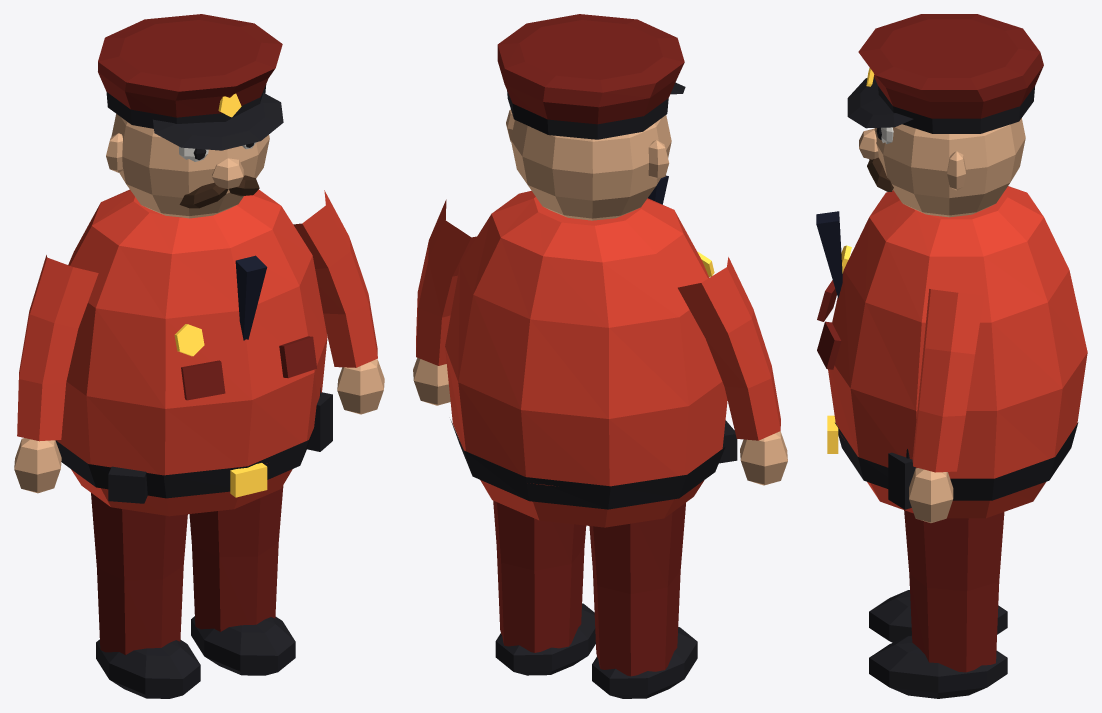
The model's file is cop_2.glb.
3 renders of one model, left to right at view 1: azimuth 30°, elevation 25°; view 2: azimuth 150°, elevation 25°; view 3: azimuth 270°, elevation 25°, orthographic.
Visible parts, largest first — view 1: body_shirt, legs_pants, arms_shirt, cap_pants, legs_black, head_skin, body_black, cap_black, arms_skin, body_pants, body_gold, body_tie (+1 smaller); view 2: body_shirt, legs_pants, cap_pants, arms_shirt, head_skin, body_black, legs_black, arms_skin, cap_black; view 3: body_shirt, cap_pants, legs_pants, head_skin, arms_shirt, legs_black, body_black, cap_black, arms_skin, body_tie, body_pants, body_gold (+1 smaller).
Boxes of the visible parts, x1=… form: body_shirt: x1=56, y1=189, x2=327, y2=516; legs_pants: x1=91, y1=485, x2=283, y2=654; arms_shirt: x1=17, y1=190, x2=377, y2=441; cap_pants: x1=98, y1=14, x2=282, y2=117; legs_black: x1=96, y1=616, x2=295, y2=698; head_skin: x1=106, y1=114, x2=269, y2=218; body_black: x1=55, y1=388, x2=332, y2=503; cap_black: x1=106, y1=84, x2=283, y2=150; arms_skin: x1=14, y1=359, x2=384, y2=493; body_pants: x1=181, y1=336, x2=316, y2=400; body_gold: x1=174, y1=324, x2=267, y2=497; body_tie: x1=235, y1=255, x2=267, y2=340; body_shirt: x1=445, y1=191, x2=727, y2=527; legs_pants: x1=493, y1=500, x2=685, y2=676; cap_pants: x1=497, y1=14, x2=684, y2=124; arms_shirt: x1=416, y1=199, x2=780, y2=440; head_skin: x1=506, y1=109, x2=671, y2=220; body_black: x1=450, y1=419, x2=737, y2=509; legs_black: x1=495, y1=603, x2=697, y2=698; arms_skin: x1=413, y1=358, x2=787, y2=485; cap_black: x1=507, y1=82, x2=685, y2=139; body_shirt: x1=828, y1=186, x2=1087, y2=518; cap_pants: x1=858, y1=14, x2=1043, y2=118; legs_pants: x1=904, y1=510, x2=1004, y2=672; head_skin: x1=859, y1=118, x2=1025, y2=217; arms_shirt: x1=912, y1=289, x2=983, y2=472; legs_black: x1=869, y1=590, x2=1007, y2=698; body_black: x1=835, y1=422, x2=1078, y2=509; cap_black: x1=847, y1=77, x2=1034, y2=133; arms_skin: x1=909, y1=468, x2=953, y2=522; body_tie: x1=816, y1=211, x2=842, y2=298; body_pants: x1=817, y1=280, x2=841, y2=369; body_gold: x1=827, y1=245, x2=851, y2=453.
Bounding box in the file's own units: 1.17 × 1.88 × 0.7454.
